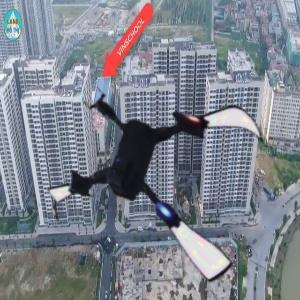drone: (52, 59, 283, 290)
